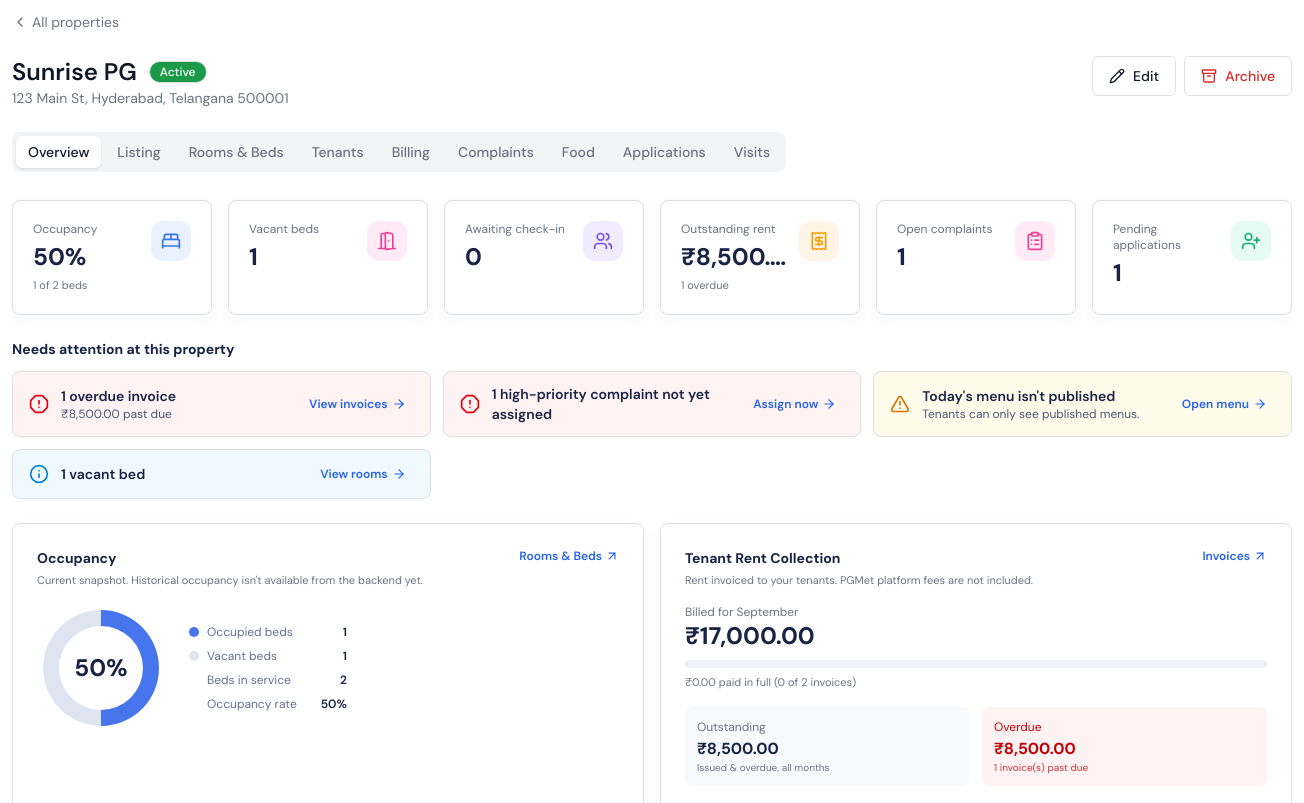
Scenario: PropertyDetailPage — Property 360 › shows the Complaints tab scoped to this property
The width and height of the screenshot is (1304, 803).
Click the tab "Complaints": [496, 152] box [446,136,546,168]
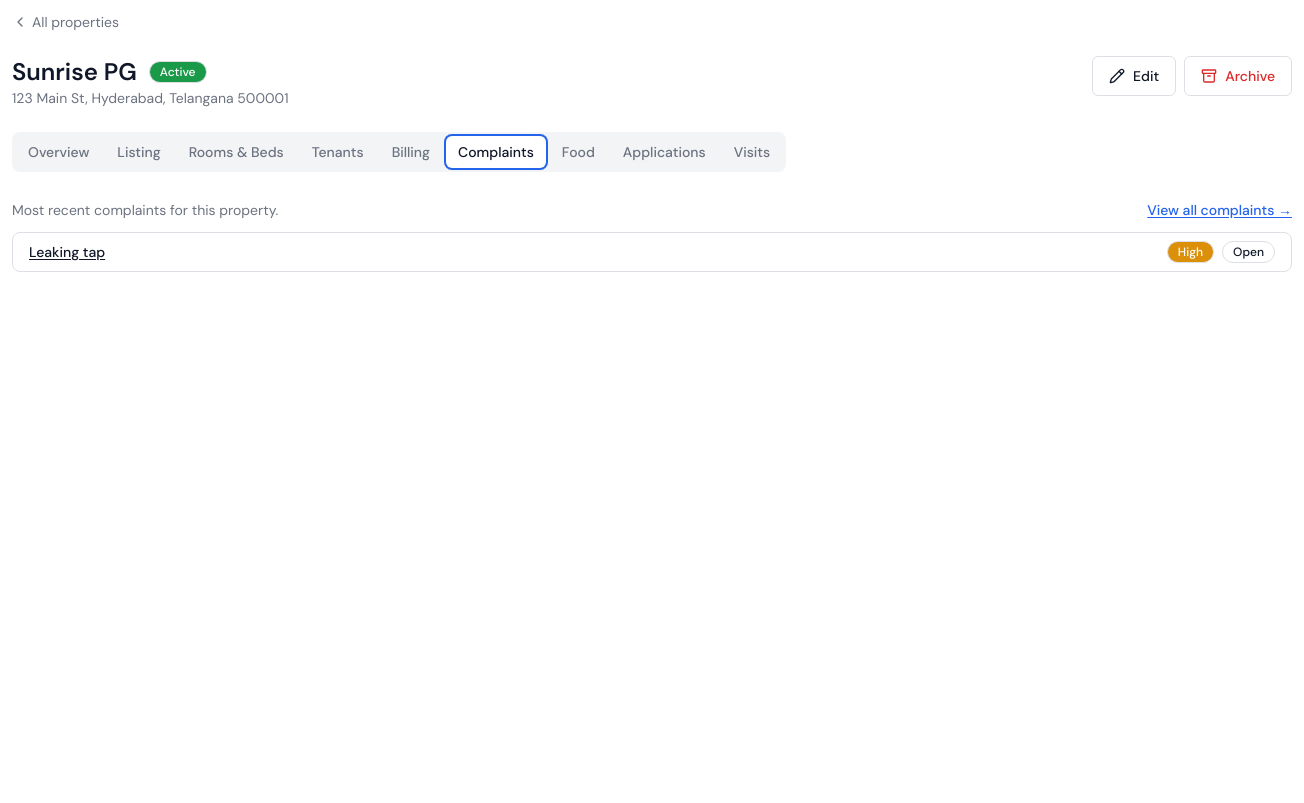
expect the link "Leaking tap" is shown: met, box [29,242,105,262]
